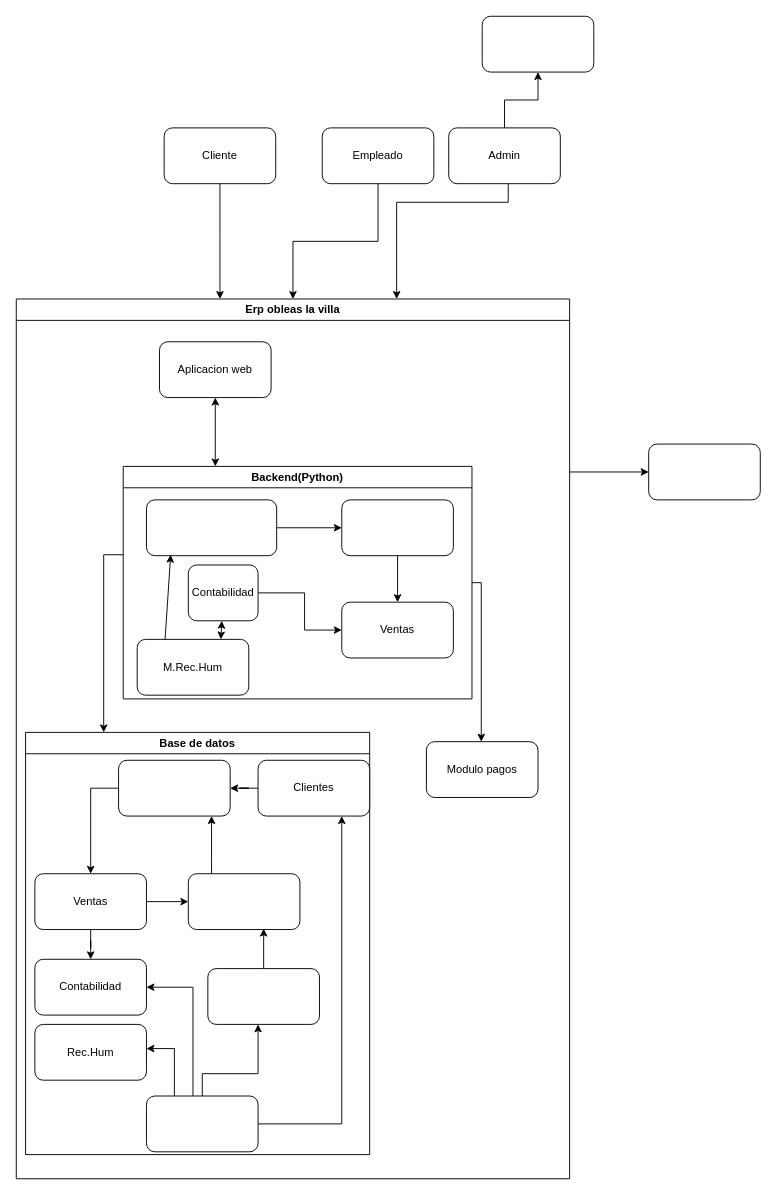
Some shapes in this 777 by 1195 pixel diagram are drawn without their labels. The centre of each missing label's shape, as x and y in pixels:
"Banco" goes at point (537, 43).
"Carrito" goes at point (174, 787).
"Inventario" goes at point (243, 901).
"M.Clinetes/proveedores" goes at point (211, 527).
"M.compras/ inventario" goes at point (397, 527).
"Proveedor" goes at point (704, 471).
"Proveedores" goes at point (263, 996).
"Usuarios_Ad" goes at point (202, 1123).
